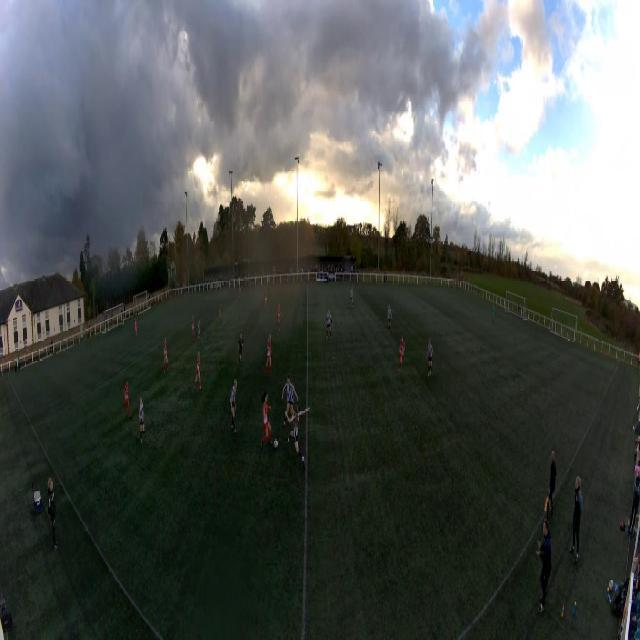ball: (274, 439, 278, 449)
player: (285, 406, 310, 471), (282, 375, 299, 426), (262, 390, 271, 444), (230, 378, 238, 433), (265, 335, 272, 377), (124, 380, 131, 421), (195, 351, 202, 392), (426, 338, 433, 376), (139, 399, 145, 440), (325, 310, 333, 340), (398, 335, 404, 373), (163, 338, 169, 374), (238, 332, 244, 367), (386, 304, 392, 335), (275, 303, 281, 331), (349, 285, 354, 309), (191, 316, 195, 344), (197, 320, 201, 347), (217, 303, 222, 323), (135, 317, 138, 337), (265, 291, 268, 310), (239, 286, 241, 303), (492, 306, 494, 323)
